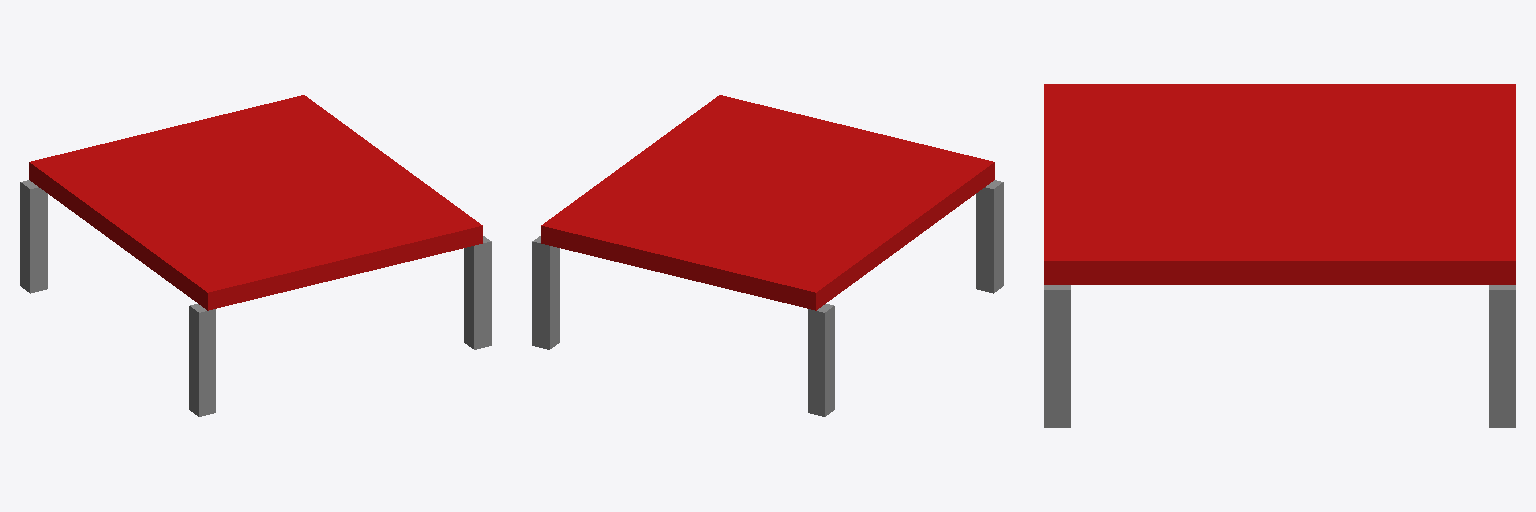
URDF robot description (robocon_2027_low_frame):
<?xml version="1.0"?>
<!--
  2027 ROBOCON low-frame collision asset.

  The actor origin is the centre of the entrance top edge.  The environment
  places it at z = inner_height + 0.5 * member_thickness.  Dimensions:
    inner height 0.29 m (set by actor pose)
    inner width  0.80 m
    tunnel length 0.80 m
    member thickness 0.05 m

  A continuous top collision slab is deliberately conservative and matches
  the MuJoCo baseline scene: any part of the robot above the 0.29 m envelope
  anywhere along the 0.8 m tunnel is rejected.  Four corner posts preserve
  the complete-frame lateral constraint.
-->
<robot name="robocon_2027_low_frame">
  <link name="low_frame">
    <collision name="roof">
      <origin xyz="0.40 0 0" rpy="0 0 0"/>
      <geometry><box size="0.80 0.90 0.05"/></geometry>
    </collision>
    <visual name="roof_vis">
      <origin xyz="0.40 0 0" rpy="0 0 0"/>
      <geometry><box size="0.80 0.90 0.05"/></geometry>
      <material name="frame_red"><color rgba="0.80 0.10 0.10 1.0"/></material>
    </visual>

    <collision name="entry_post_pos_y">
      <origin xyz="0 0.425 -0.170" rpy="0 0 0"/>
      <geometry><box size="0.05 0.05 0.29"/></geometry>
    </collision>
    <collision name="entry_post_neg_y">
      <origin xyz="0 -0.425 -0.170" rpy="0 0 0"/>
      <geometry><box size="0.05 0.05 0.29"/></geometry>
    </collision>
    <collision name="exit_post_pos_y">
      <origin xyz="0.80 0.425 -0.170" rpy="0 0 0"/>
      <geometry><box size="0.05 0.05 0.29"/></geometry>
    </collision>
    <collision name="exit_post_neg_y">
      <origin xyz="0.80 -0.425 -0.170" rpy="0 0 0"/>
      <geometry><box size="0.05 0.05 0.29"/></geometry>
    </collision>

    <visual name="entry_post_pos_y_vis">
      <origin xyz="0 0.425 -0.170" rpy="0 0 0"/>
      <geometry><box size="0.05 0.05 0.29"/></geometry>
      <material name="frame_grey"><color rgba="0.60 0.60 0.60 1.0"/></material>
    </visual>
    <visual name="entry_post_neg_y_vis">
      <origin xyz="0 -0.425 -0.170" rpy="0 0 0"/>
      <geometry><box size="0.05 0.05 0.29"/></geometry>
      <material name="frame_grey"/>
    </visual>
    <visual name="exit_post_pos_y_vis">
      <origin xyz="0.80 0.425 -0.170" rpy="0 0 0"/>
      <geometry><box size="0.05 0.05 0.29"/></geometry>
      <material name="frame_grey"/>
    </visual>
    <visual name="exit_post_neg_y_vis">
      <origin xyz="0.80 -0.425 -0.170" rpy="0 0 0"/>
      <geometry><box size="0.05 0.05 0.29"/></geometry>
      <material name="frame_grey"/>
    </visual>
  </link>
</robot>

--- Facts derived from the render (not from the file) ---
3 views of the same robot in one strip: view 1: azimuth 30°, elevation 25°; view 2: azimuth 150°, elevation 25°; view 3: azimuth 270°, elevation 25° (orthographic).
Model robocon_2027_low_frame with 1 links and 0 joints (none), rooted at low_frame, posed every joint at zero.
Visible links, largest first — view 1: low_frame; view 2: low_frame; view 3: low_frame.
Boxes of the visible links, x1=… form: low_frame: x1=20, y1=95, x2=491, y2=416; low_frame: x1=532, y1=95, x2=1003, y2=416; low_frame: x1=1044, y1=84, x2=1515, y2=427.
Size in the robot's own frame: 0.85 by 0.9 by 0.34 metres.
Geometry: primitives only (box / cylinder / sphere), no mesh files.
